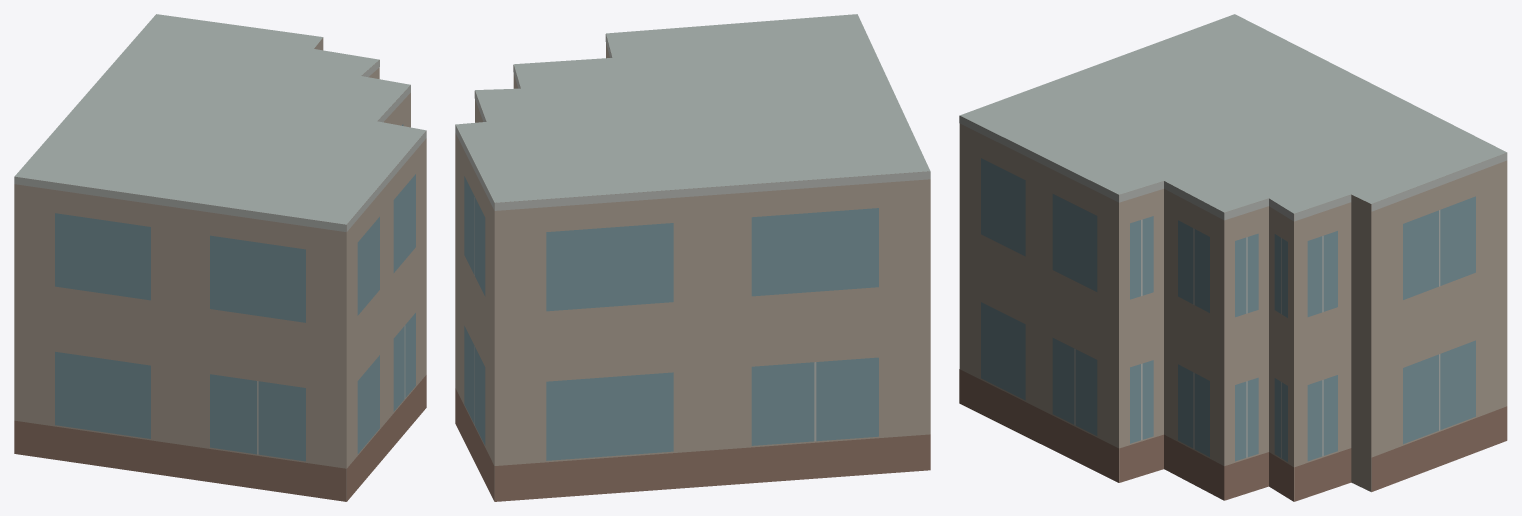
File: survey-upis-32499394.glb
The picture shows the model from 3 angles, left to right: view 1: azimuth 30°, elevation 25°; view 2: azimuth 150°, elevation 25°; view 3: azimuth 270°, elevation 25°; orthographic projection. The views are drawn at different scales.
Parts seen in each view (by area): view 1: survey-upis-32499394.tmp; view 2: survey-upis-32499394.tmp; view 3: survey-upis-32499394.tmp.
Boxes of the visible parts, <box> form: survey-upis-32499394.tmp: <box>14,14,426,501</box>; survey-upis-32499394.tmp: <box>455,14,930,501</box>; survey-upis-32499394.tmp: <box>959,14,1507,501</box>.
Bounding box in the file's own units: 13.39 × 9 × 15.52.
